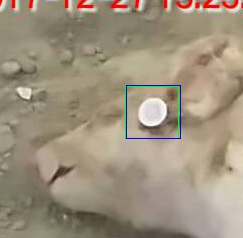text: (125, 86, 178, 138)
